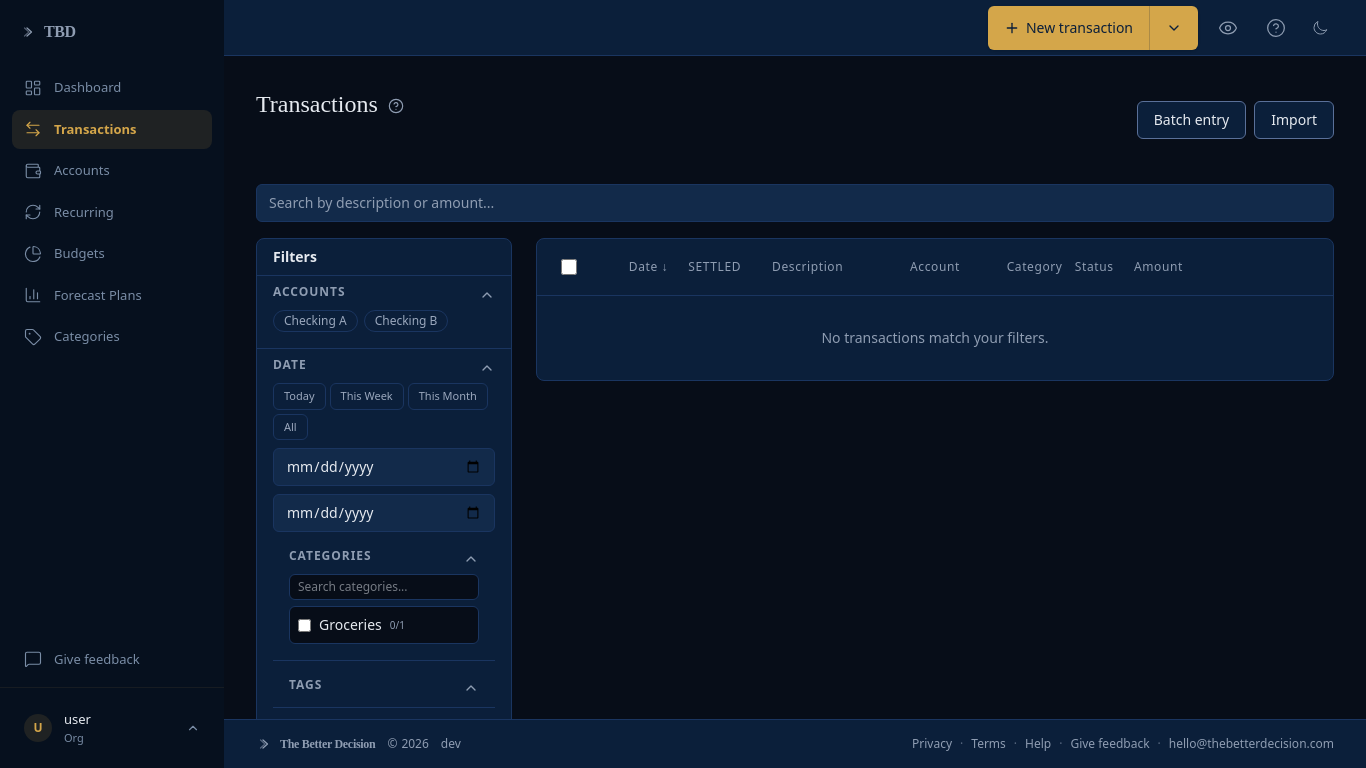
Test: TransactionsPage — dashboard deep links › hides the Reset button once the last account is deselected
Click the button with aria-label "Account Checking A".
click(315, 321)  # box [273,310,358,332]
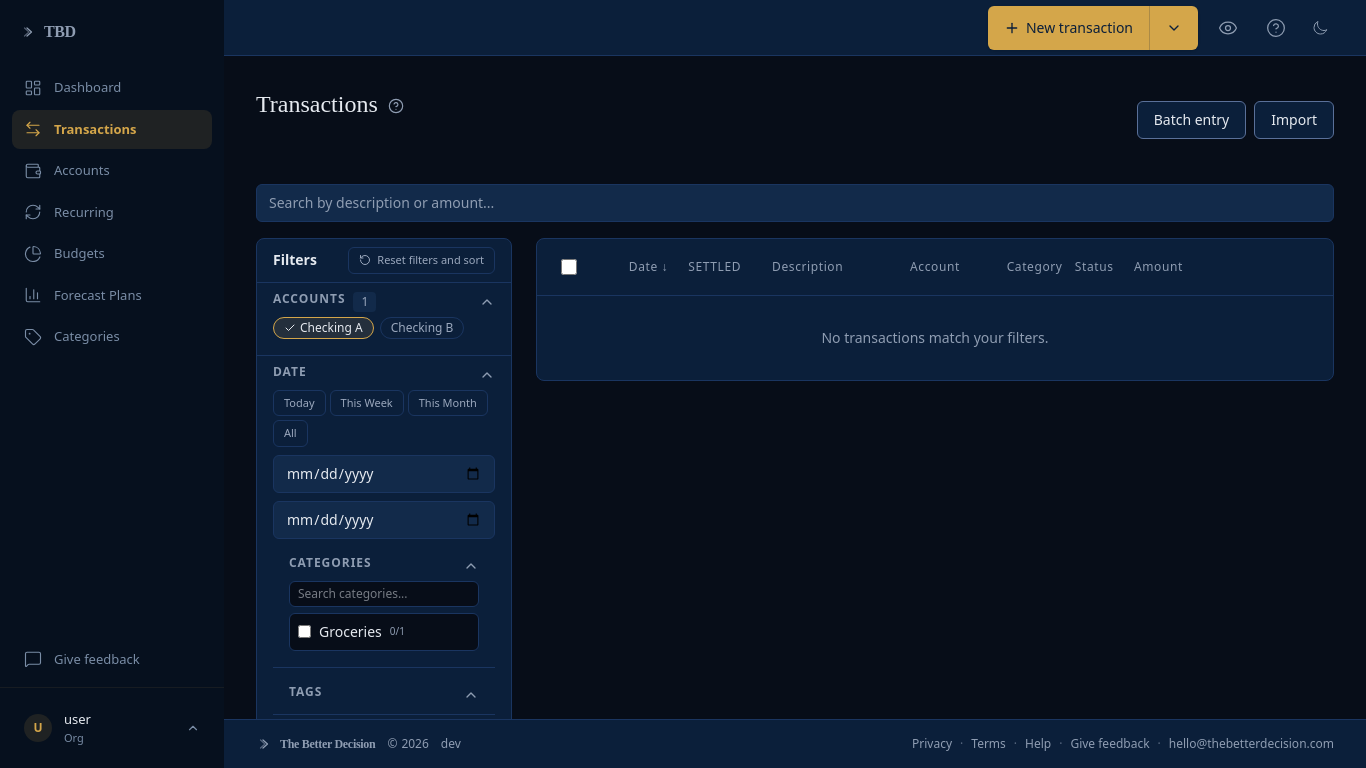
Expected: the button with test id "reset-sort-filters" is shown, [348,247,495,274]
Click the button with aria-label "Account Checking A".
click(323, 328)  # box [273,316,374,338]
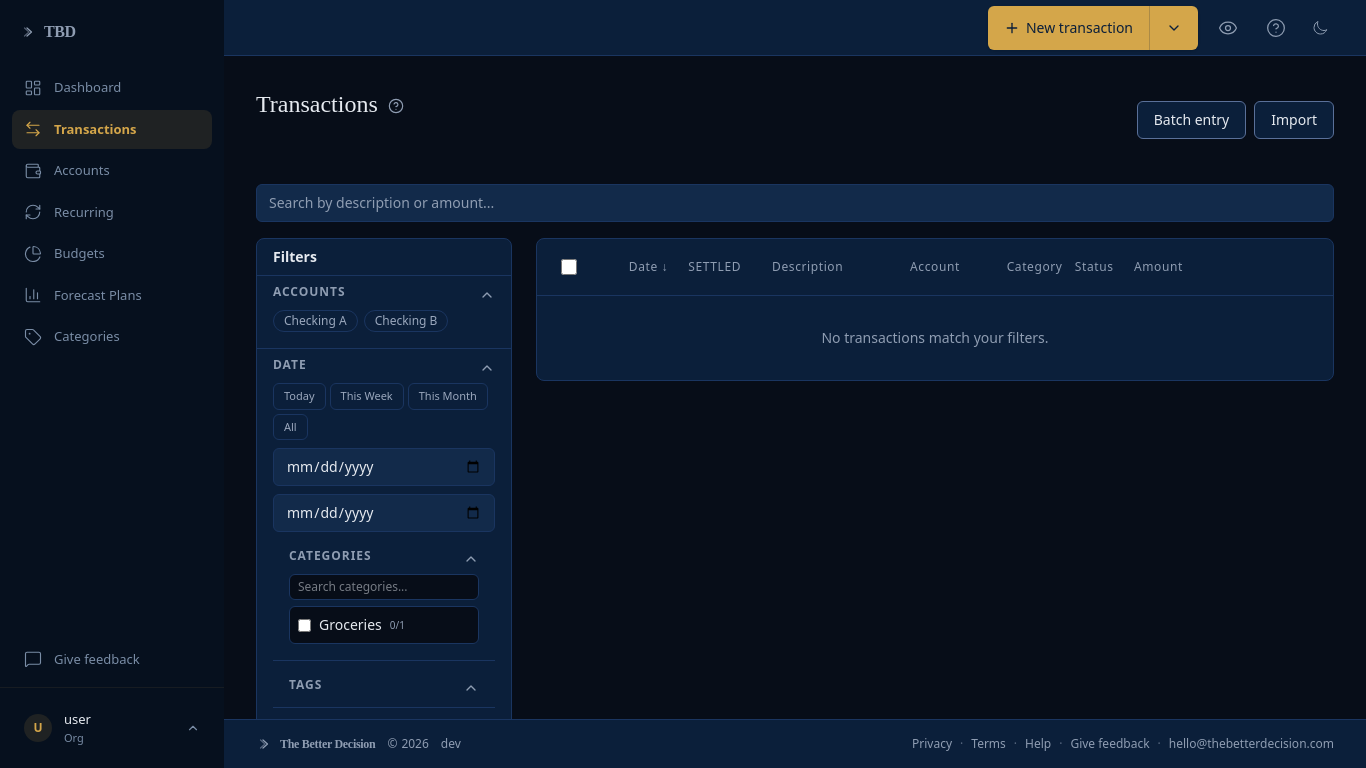
Expected: the button with test id "reset-sort-filters" is gone
